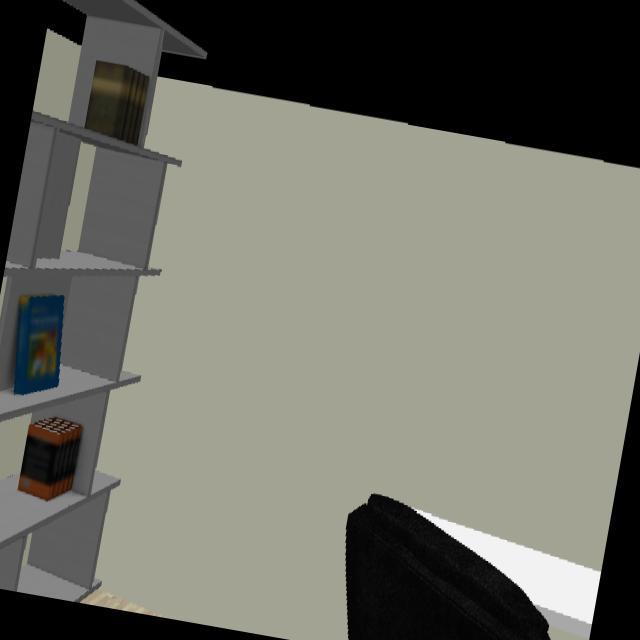book: (6, 293, 65, 397), (83, 60, 150, 145), (18, 419, 82, 503)
bookshelf: (0, 385, 117, 603)
chair: (343, 495, 552, 640)
table: (416, 512, 601, 640)
